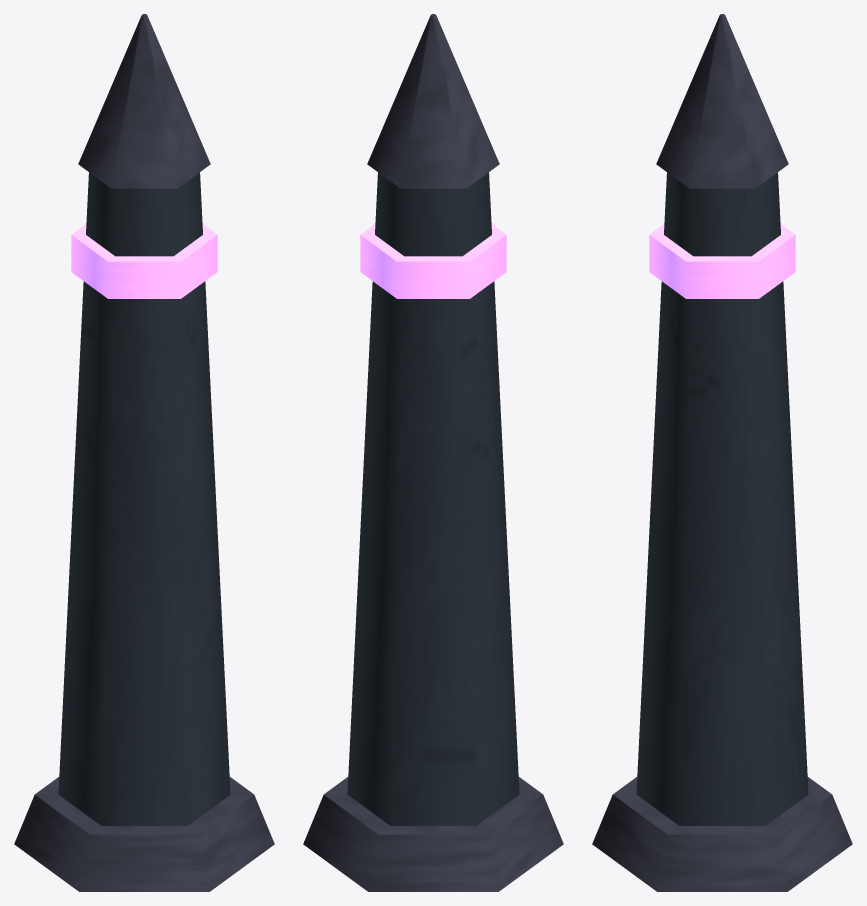
The model's file is WardStake.glb.
3 renders of one model, left to right at view 1: azimuth 30°, elevation 25°; view 2: azimuth 150°, elevation 25°; view 3: azimuth 270°, elevation 25°, orthographic.
Visible parts, largest first — view 1: Fluted shaft, Foot, Crown, Ward band; view 2: Fluted shaft, Foot, Crown, Ward band; view 3: Fluted shaft, Foot, Crown, Ward band.
Part boxes in pixels (bbox=[...]): Fluted shaft: bbox=[58, 172, 230, 825]; Foot: bbox=[14, 777, 274, 891]; Crown: bbox=[78, 14, 210, 188]; Ward band: bbox=[71, 224, 217, 298]; Fluted shaft: bbox=[347, 172, 519, 825]; Foot: bbox=[303, 777, 563, 891]; Crown: bbox=[367, 14, 499, 188]; Ward band: bbox=[360, 224, 506, 298]; Fluted shaft: bbox=[636, 172, 808, 825]; Foot: bbox=[592, 777, 852, 891]; Crown: bbox=[656, 14, 788, 188]; Ward band: bbox=[649, 224, 795, 298].
Bounding box in the file's own units: 0.9873 × 4 × 1.14.
Materials: 3 (3 with a texture image).
